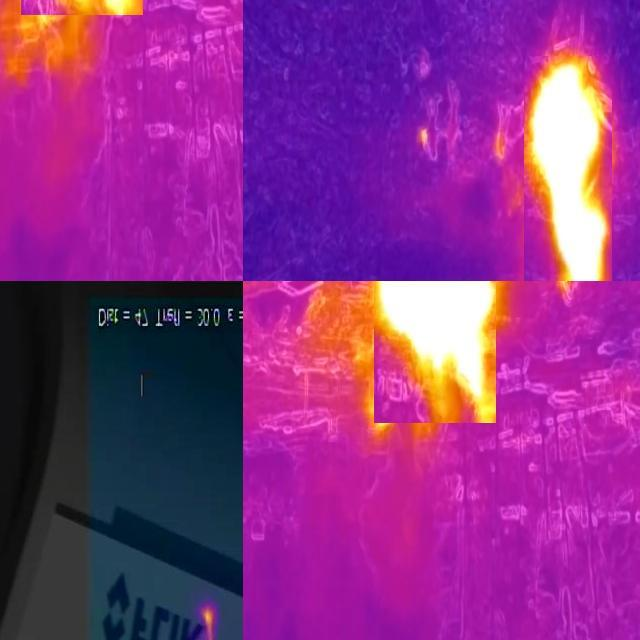fire: (524, 56, 612, 282), (374, 282, 496, 423)
